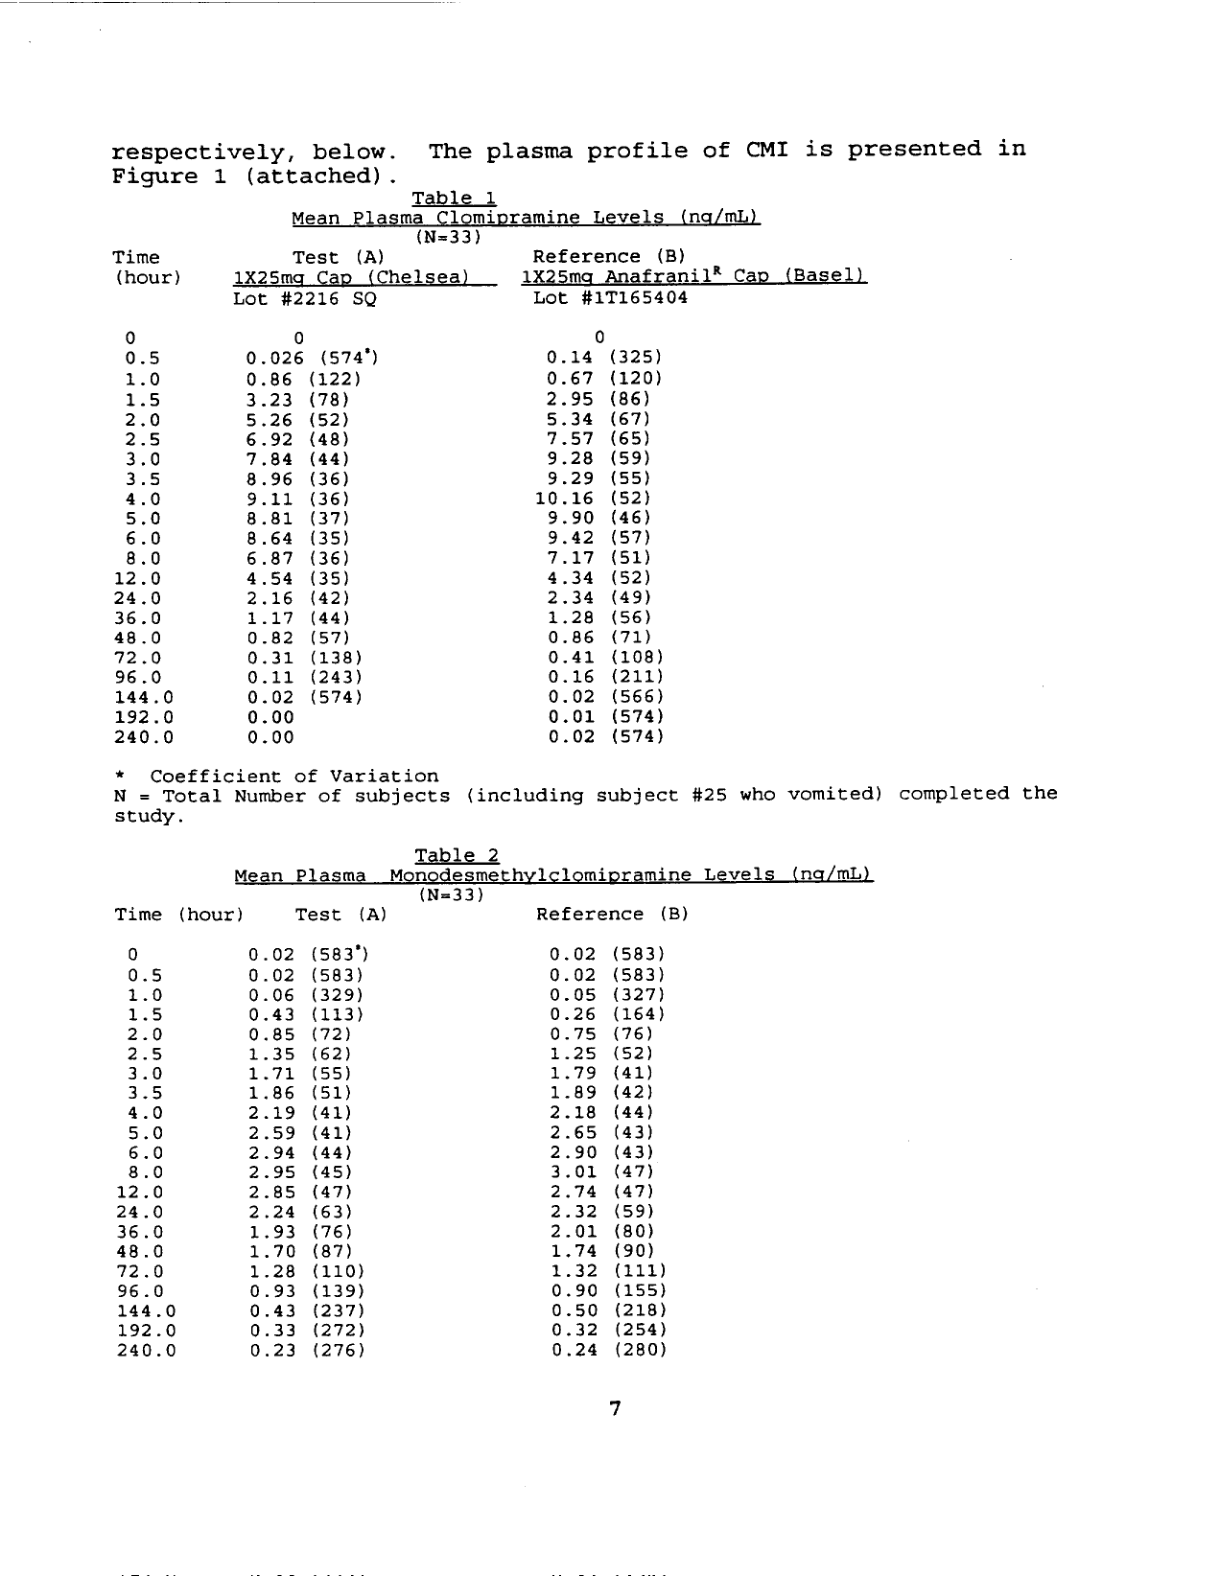nolines: (110, 248, 869, 746), (109, 904, 691, 1359)
